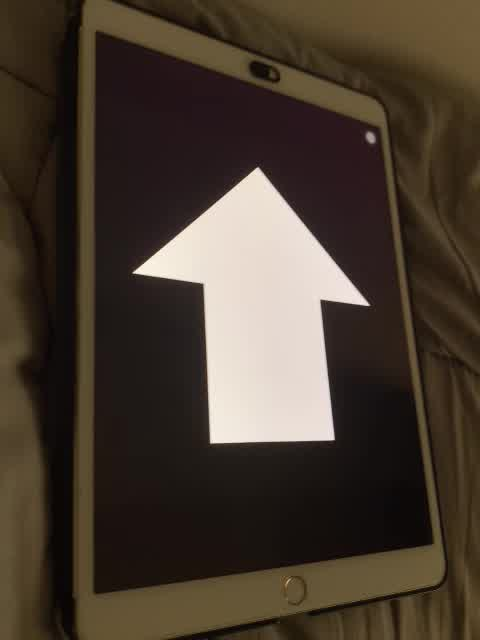up: (126, 164, 372, 449)
